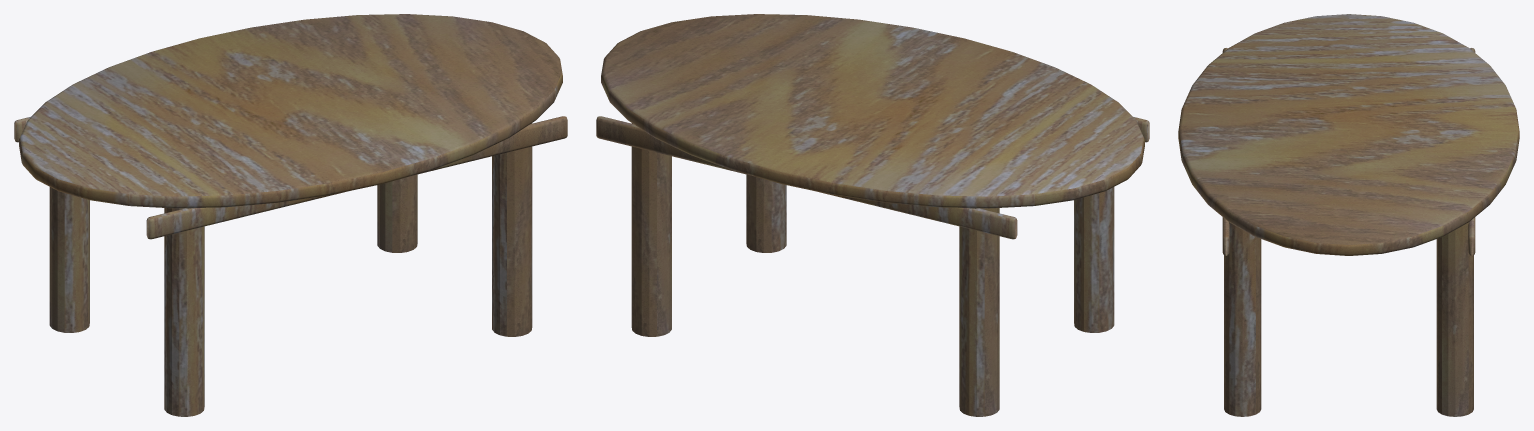
The model's file is Antique_Table_09.fbx.
3 views of the same model, side by side, from view 1: azimuth 30°, elevation 25°; view 2: azimuth 150°, elevation 25°; view 3: azimuth 270°, elevation 25° (orthographic). The views are drawn at different scales.
Parts seen in each view (by area): view 1: Antique_Table; view 2: Antique_Table; view 3: Antique_Table.
Boxes of the visible parts, left/top/right/bottom form: Antique_Table: left=14, top=14, right=567, bottom=416; Antique_Table: left=596, top=14, right=1149, bottom=416; Antique_Table: left=1178, top=14, right=1519, bottom=416.
Size of the model in its own units: 1.93 by 0.8 by 1.2.
1 material, 1 textured.
